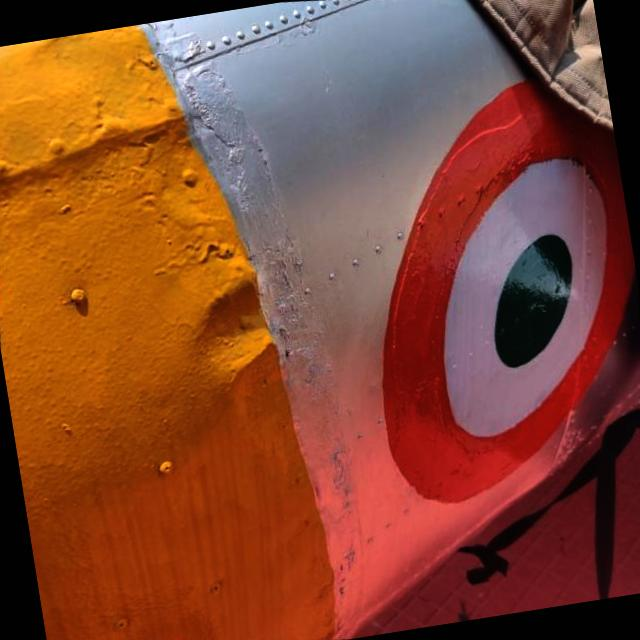dent: (166, 263, 280, 400)
